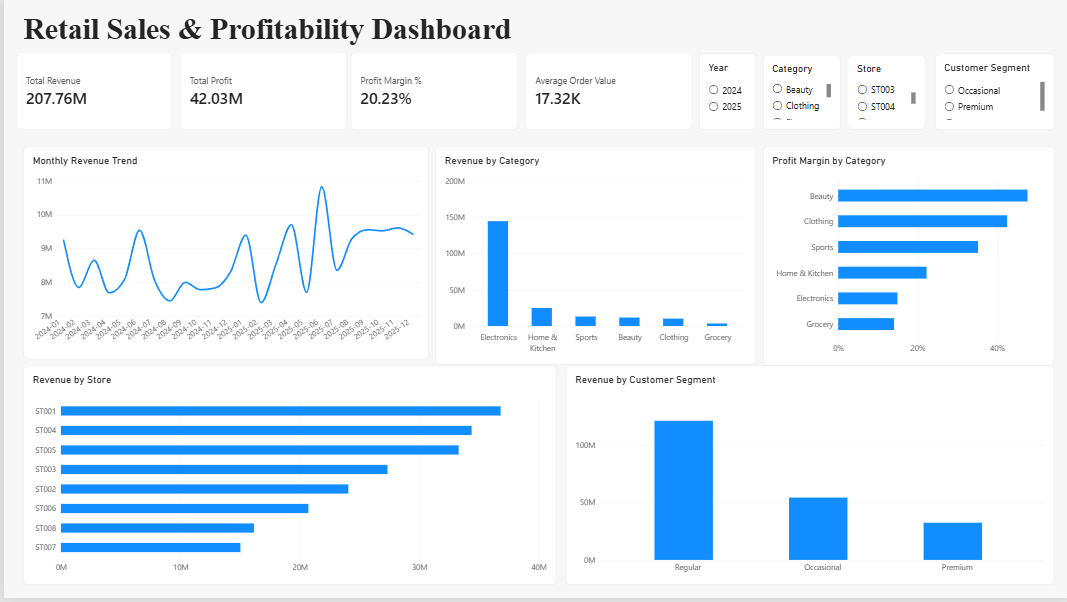

The dashboard page shown, as its layout file describes it:
{"tool":"powerbi","page":{"name":"Page 2","canvas":[1920,1080],"ordinal":1},"visuals":[{"type":"cardVisual","fields":{"Data":["Raw_Data.Total Revenue"]},"box":[22.5,97.5,280,140],"z":0},{"type":"cardVisual","fields":{"Data":["Raw_Data.Total Profit"]},"box":[317.5,97.5,300,140],"z":1000},{"type":"cardVisual","fields":{"Data":["Raw_Data.Profit Margin %"]},"box":[625,97.5,300,140],"z":2000},{"type":"cardVisual","fields":{"Data":["Raw_Data.Average Order Value"]},"box":[940,97.5,300,140],"z":3000},{"type":"lineChart","title":"Monthly Revenue Trend","fields":{"Category":["DateTable.Year Month"],"Y":["Raw_Data.Total Revenue"]},"box":[35,267.5,730,383.3],"z":4000},{"type":"clusteredColumnChart","title":"Revenue by Category","fields":{"Category":["Raw_Data.category"],"Y":["Raw_Data.Total Revenue"]},"box":[777.5,267.5,577.5,392.5],"z":5000},{"type":"clusteredBarChart","title":"Profit Margin by Category","fields":{"Category":["Raw_Data.category"],"Y":["Raw_Data.Profit Margin %"]},"box":[1367.5,267.5,525,395],"z":6000},{"type":"clusteredBarChart","title":"Revenue by Store","fields":{"Category":["Raw_Data.store_id"],"Y":["Raw_Data.Total Revenue"]},"box":[35,662.5,960,395],"z":7000},{"type":"clusteredColumnChart","title":"Revenue by Customer Segment","fields":{"Category":["Raw_Data.customer_segment"],"Y":["Raw_Data.Total Revenue"]},"box":[1012.5,662.5,880,395],"z":8000},{"type":"listSlicer","fields":{"Values":["DateTable.Year"]},"box":[1252.5,100,102.5,137.5],"z":9000},{"type":"listSlicer","title":"Category","fields":{"Values":["Raw_Data.category"]},"box":[1367.5,102.5,140,135],"z":10000},{"type":"listSlicer","title":"Store","fields":{"Values":["Raw_Data.store_id"]},"box":[1520,102.5,140,135],"z":11000},{"type":"listSlicer","title":"Customer Segment","fields":{"Values":["Raw_Data.customer_segment"]},"box":[1677.5,100,215,137.5],"z":12000},{"type":"textbox","box":[35,25,1055,75],"z":12002}]}

Visuals, with their boxes in screenshot pixels (x1, y1, x2, y2), scaled from the page's 1920x1080 canvas onto the 1067x602 screenshot:
cardVisual - Raw_Data.Total Revenue: {"x1": 13, "y1": 54, "x2": 168, "y2": 132}
cardVisual - Raw_Data.Total Profit: {"x1": 176, "y1": 54, "x2": 343, "y2": 132}
cardVisual - Raw_Data.Profit Margin %: {"x1": 347, "y1": 54, "x2": 514, "y2": 132}
cardVisual - Raw_Data.Average Order Value: {"x1": 522, "y1": 54, "x2": 689, "y2": 132}
"Monthly Revenue Trend" lineChart: {"x1": 19, "y1": 149, "x2": 425, "y2": 363}
"Revenue by Category" clusteredColumnChart: {"x1": 432, "y1": 149, "x2": 753, "y2": 368}
"Profit Margin by Category" clusteredBarChart: {"x1": 760, "y1": 149, "x2": 1052, "y2": 369}
"Revenue by Store" clusteredBarChart: {"x1": 19, "y1": 369, "x2": 553, "y2": 589}
"Revenue by Customer Segment" clusteredColumnChart: {"x1": 563, "y1": 369, "x2": 1052, "y2": 589}
listSlicer - DateTable.Year: {"x1": 696, "y1": 56, "x2": 753, "y2": 132}
"Category" listSlicer: {"x1": 760, "y1": 57, "x2": 838, "y2": 132}
"Store" listSlicer: {"x1": 845, "y1": 57, "x2": 923, "y2": 132}
"Customer Segment" listSlicer: {"x1": 932, "y1": 56, "x2": 1052, "y2": 132}
textbox: {"x1": 19, "y1": 14, "x2": 606, "y2": 56}
